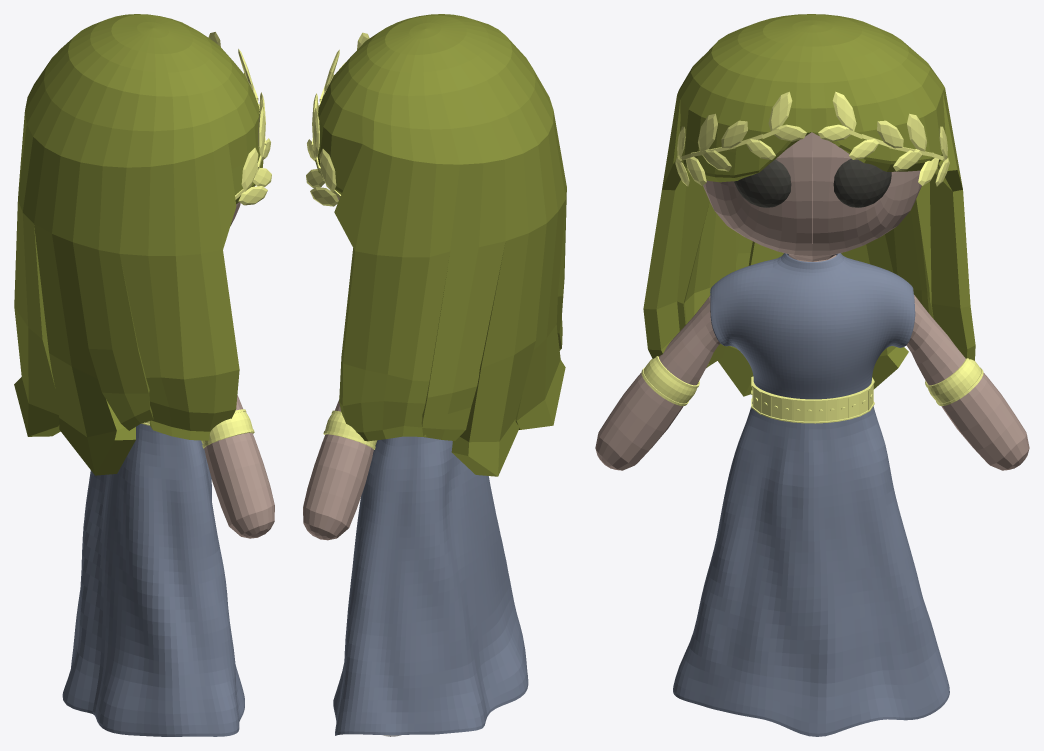
The model's file is FullSizeTanfana.fbx.
The picture shows the model from 3 angles, left to right: view 1: azimuth 30°, elevation 25°; view 2: azimuth 150°, elevation 25°; view 3: azimuth 270°, elevation 25°; orthographic projection.
Parts seen in each view (by area): view 1: HairTan, Skirt Top part, BodyReto, Circlet, Bracelets; view 2: HairTan, Skirt Top part, BodyReto, Circlet, Bracelets; view 3: Skirt Top part, HairTan, BodyReto, Circlet, Eyes, Belt, Bracelets.
Boxes of the visible parts, x1,y1,x2,y2 form: HairTan: (14, 14, 263, 475); Skirt Top part: (62, 424, 244, 736); BodyReto: (204, 202, 274, 538); Circlet: (208, 32, 271, 205); Bracelets: (201, 409, 254, 448); HairTan: (315, 14, 566, 476); Skirt Top part: (333, 436, 528, 735); BodyReto: (303, 196, 390, 736); Circlet: (306, 32, 369, 206); Bracelets: (323, 410, 377, 449); Skirt Top part: (673, 253, 949, 736); HairTan: (643, 14, 975, 396); BodyReto: (595, 132, 1029, 470); Circlet: (675, 91, 949, 186); Eyes: (734, 158, 891, 207); Belt: (751, 376, 874, 423); Bracelets: (641, 356, 983, 405).
Bounding box in the file's own units: 141 × 440 × 252.
